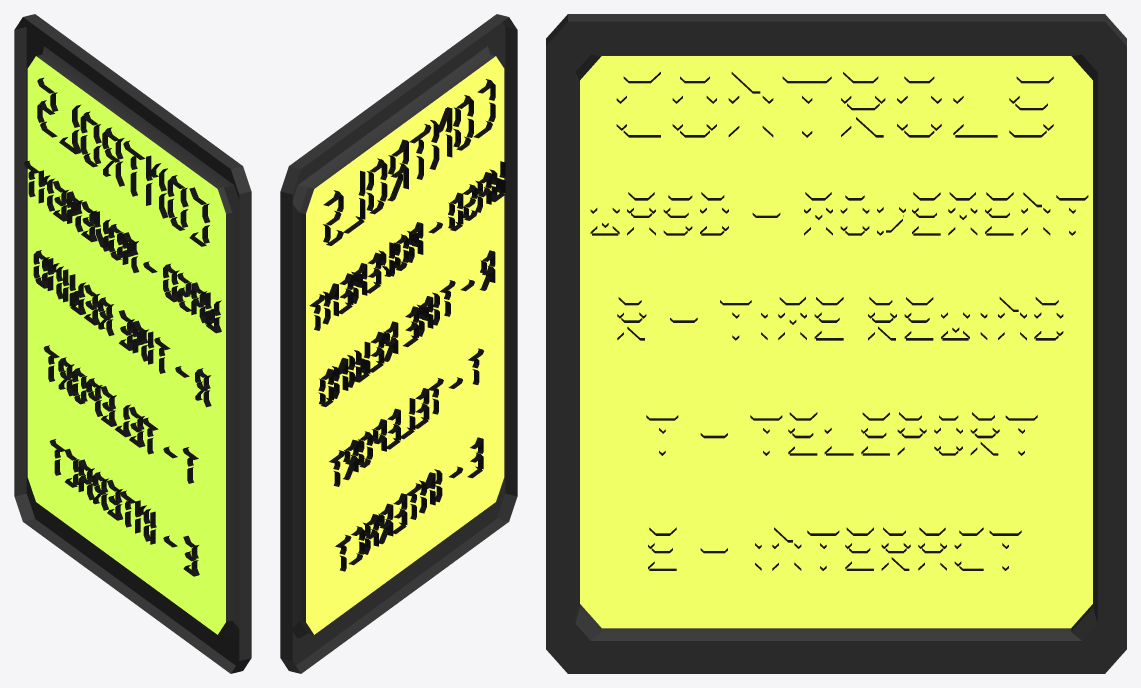
File: controls.fbx
3 renders of one model, left to right at view 1: azimuth 30°, elevation 25°; view 2: azimuth 150°, elevation 25°; view 3: azimuth 270°, elevation 25°, orthographic. The views are drawn at different scales.
Visible parts, largest first — view 1: Plane.008; view 2: Plane.008; view 3: Plane.008.
Boxes of the visible parts, x1,y1,x2,y2 form: Plane.008: (14,14,251,673); Plane.008: (280,14,517,673); Plane.008: (546,14,1126,673).
Size of the model in its own units: 2.93 by 79.28 by 64.
